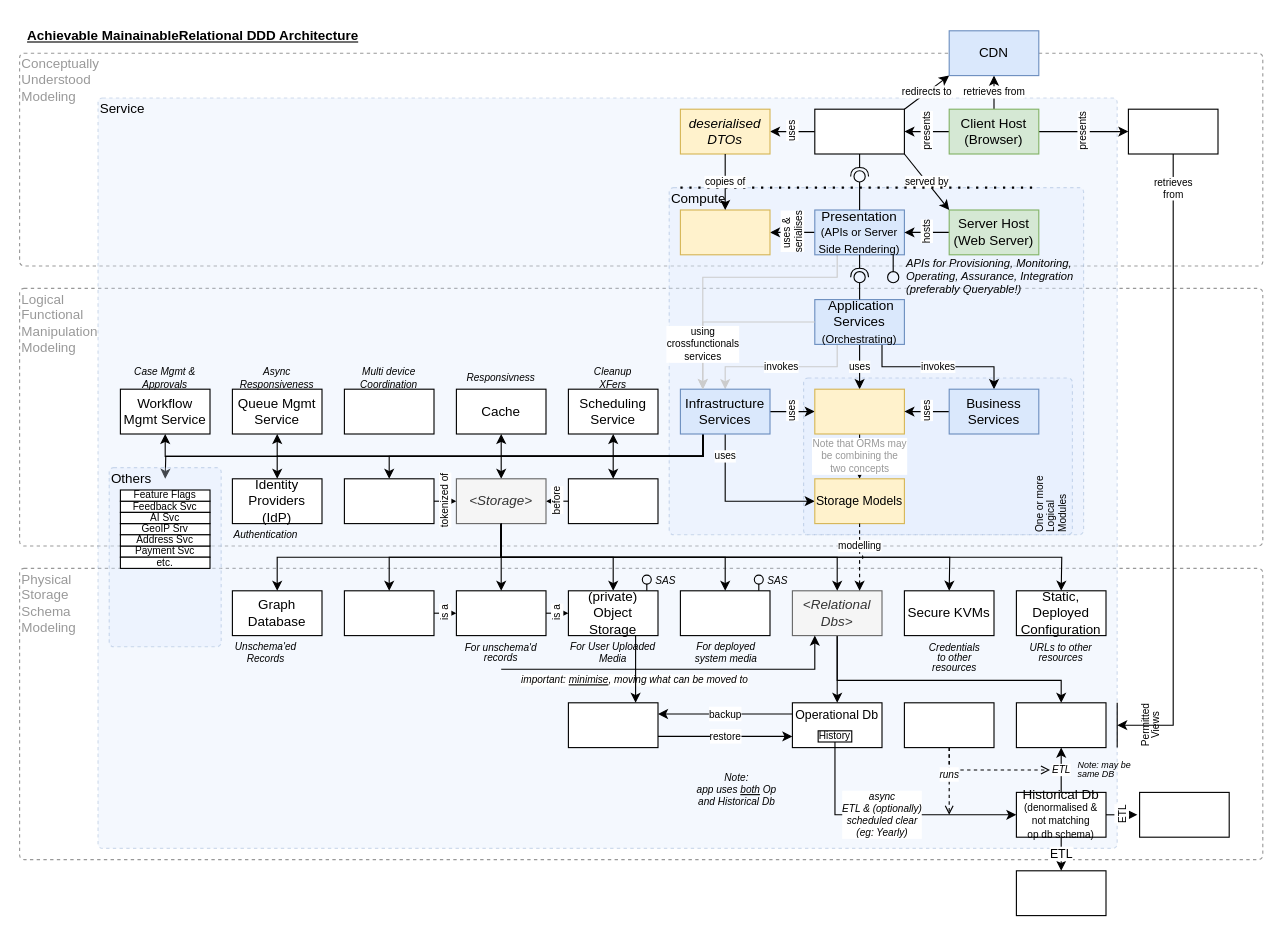
Image size: 1282x939. Some labels were removed from this diagram. The shapes that lost their labels are listed below. From the top down, each one's centre as x and y in pixels, then its label:
the point at 859,131: (1 or more) Single Page Apps (SPA)
the point at 1172,131: Analytics (Power BI, etc.)
the point at 724,232: Domain Transfer Objects (DTOs)
the point at 388,411: Service Bus
the point at 859,411: Logical Models
the point at 388,501: Search
the point at 612,501: Malware Detection Service
the point at 388,613: Event Database
the point at 500,613: Document Storage
the point at 724,613: (public) Object Storage
the point at 612,725: Backups
the point at 948,725: System's ETL Agent
the point at 1060,725: Reporting Db
the point at 1183,814: Archive Db (denormalised)
the point at 1060,893: Data warehouse
